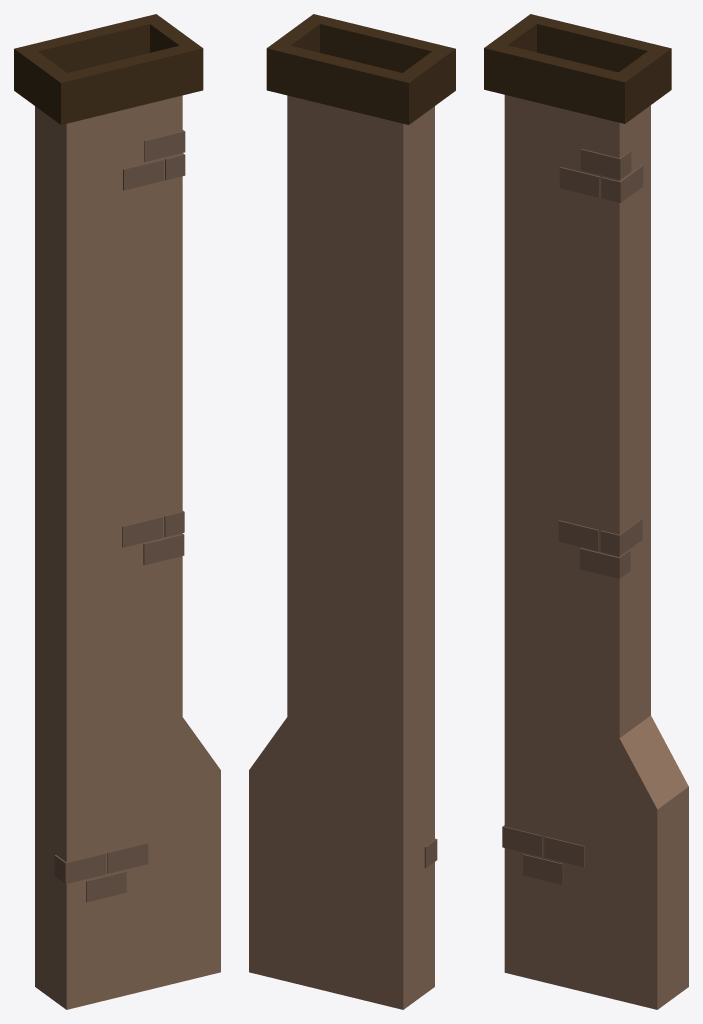
File: Chimney4_C5.fbx
3 renders of one model, left to right at view 1: azimuth 30°, elevation 25°; view 2: azimuth 150°, elevation 25°; view 3: azimuth 330°, elevation 25°, orthographic.
Visible parts, largest first — view 1: Chimney4_C5; view 2: Chimney4_C5; view 3: Chimney4_C5.
Boxes of the visible parts, x1=… form: Chimney4_C5: x1=14, y1=14, x2=220, y2=1009; Chimney4_C5: x1=249, y1=14, x2=455, y2=1009; Chimney4_C5: x1=484, y1=14, x2=688, y2=1009.
Size of the model in its own units: 0.9924 by 5.3 by 0.4819.
